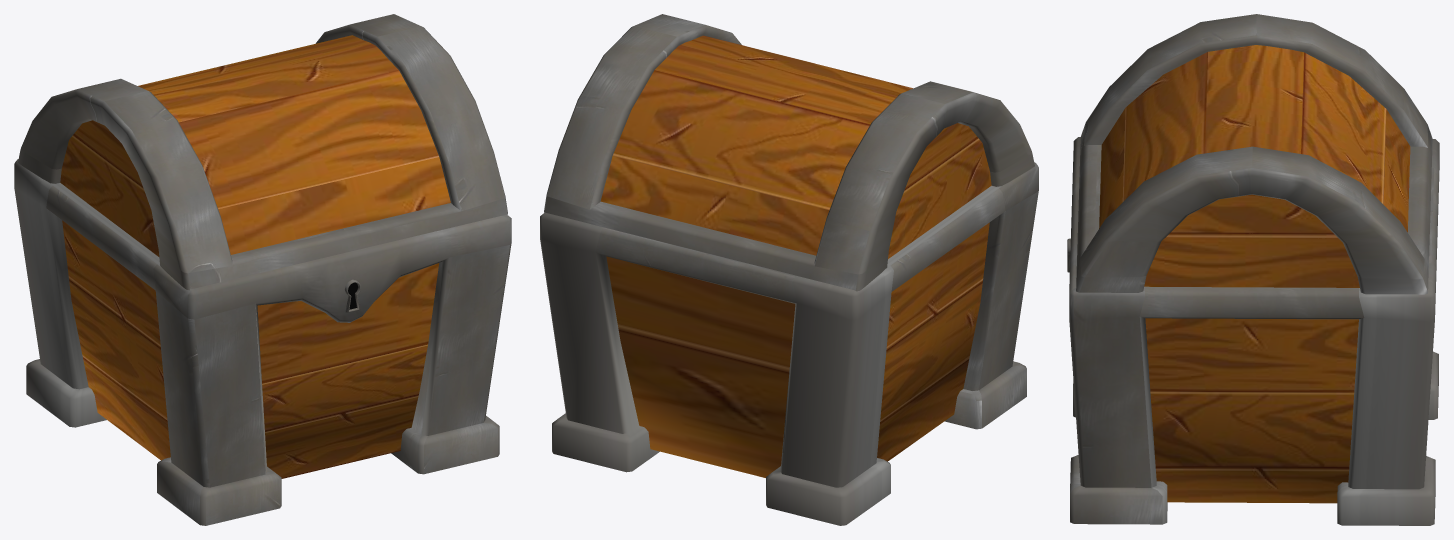
Rendered from forest_chest.fbx.
The picture shows the model from 3 angles, left to right: view 1: azimuth 30°, elevation 25°; view 2: azimuth 150°, elevation 25°; view 3: azimuth 270°, elevation 25°; orthographic projection.
Parts seen in each view (by area): view 1: Circle.028; view 2: Circle.028; view 3: Circle.028.
Part boxes in pixels (x1=…): Circle.028: x1=14, y1=14, x2=511, y2=525; Circle.028: x1=540, y1=14, x2=1038, y2=525; Circle.028: x1=1067, y1=14, x2=1439, y2=525.
Size of the model in its own units: 1.76 by 1.87 by 1.74.
